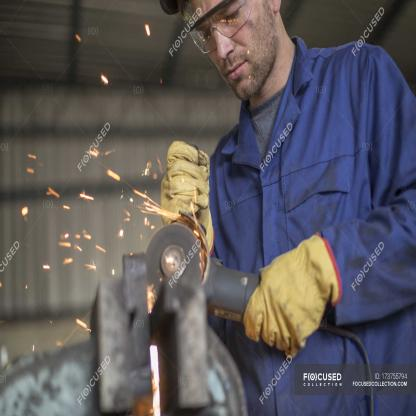oculos: (188, 1, 253, 55)
